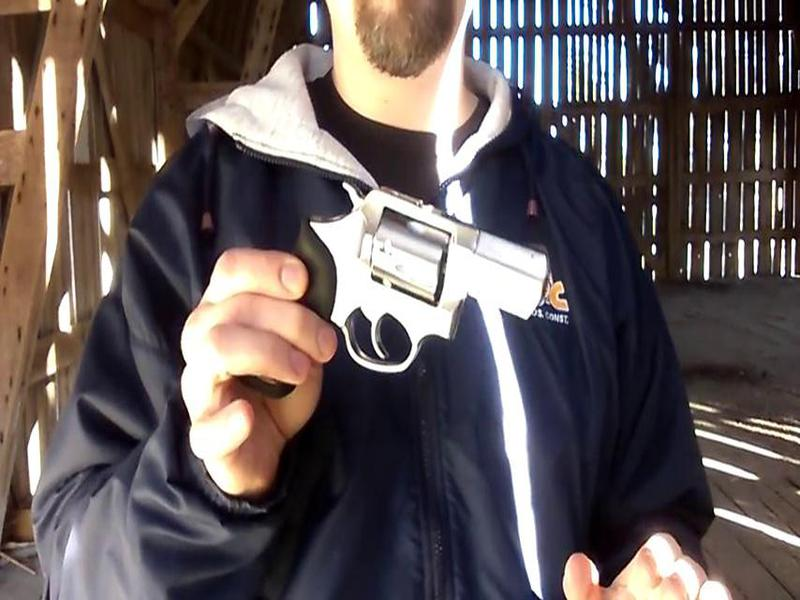Revolver: (256, 171, 561, 394)
